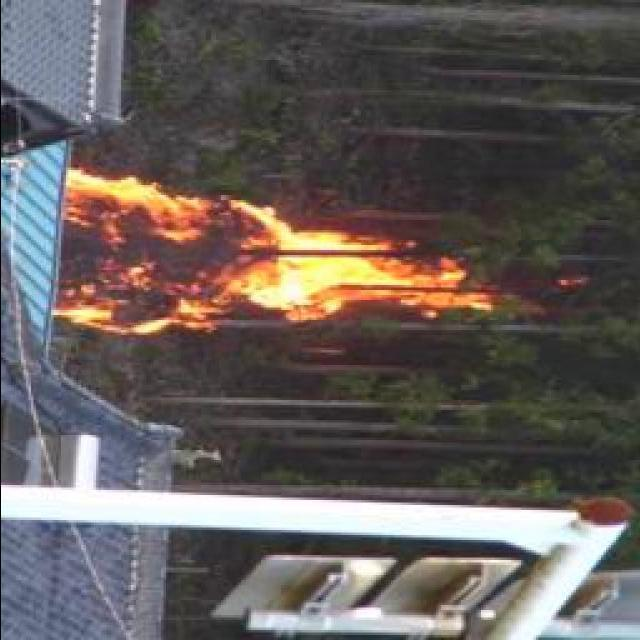Fire: (56, 174, 470, 330)
